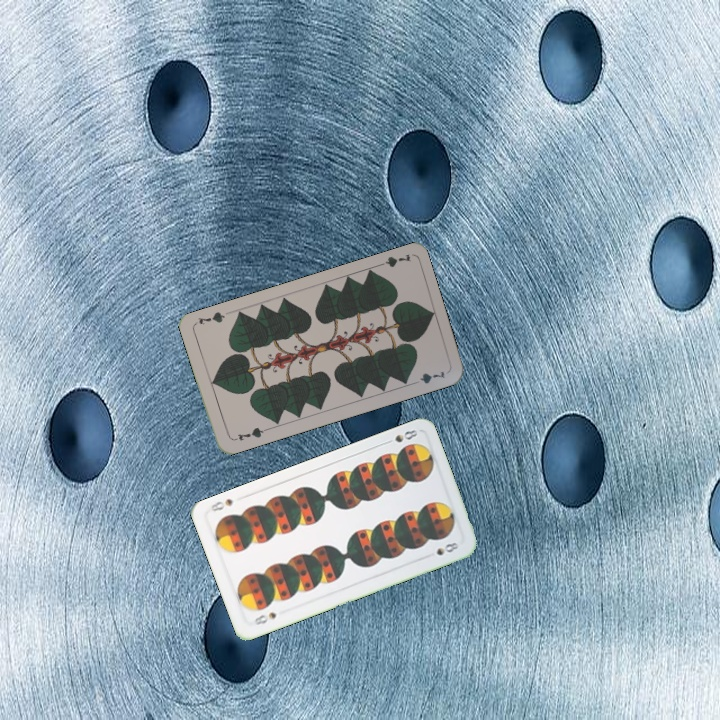G7: (229, 423, 269, 444), (372, 250, 413, 270)
S8: (381, 425, 420, 447), (251, 608, 279, 628)
